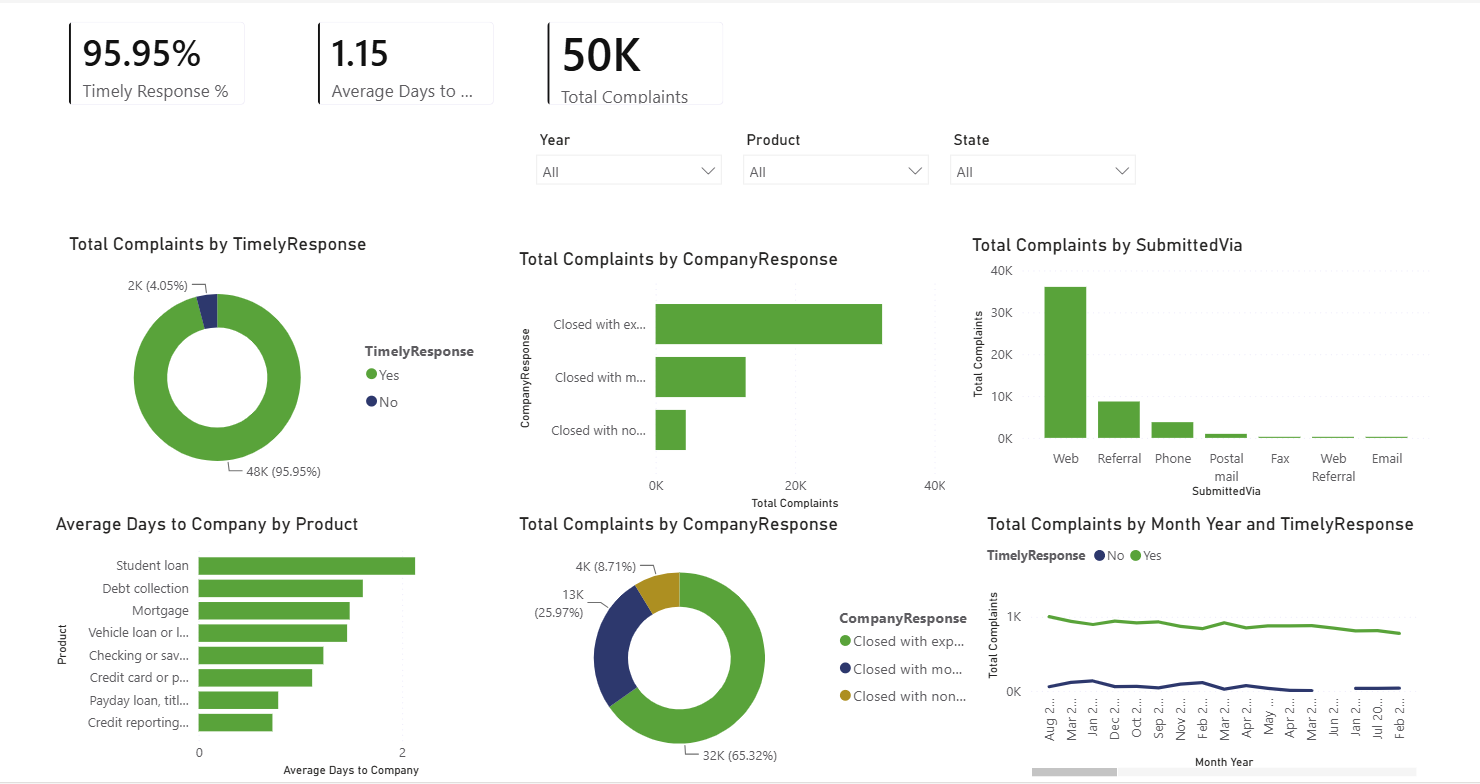

The dashboard page shown, as its layout file describes it:
{"tool":"powerbi","page":{"name":"Operations & Response Analysis","canvas":[1280,720],"ordinal":2},"visuals":[{"type":"cardVisual","fields":{"Data":["Consumer Complaints.Timely Response %"]},"box":[0,0,197.8,111.9],"z":0},{"type":"cardVisual","fields":{"Data":["Consumer Complaints.Average Days to Company"]},"box":[230.3,0,197.8,111.9],"z":1},{"type":"cardVisual","fields":{"Data":["Consumer Complaints.Total Complaints"]},"box":[442.7,0,197.8,111.9],"z":2},{"type":"donutChart","fields":{"Category":["Consumer Complaints.TimelyResponse"],"Y":["Consumer Complaints.Total Complaints"]},"box":[13,212.4,400.5,248.1],"z":3},{"type":"clusteredBarChart","fields":{"Category":["Consumer Complaints.CompanyResponse"],"Y":["Consumer Complaints.Total Complaints"]},"box":[428.1,225.4,403.8,246.5],"z":4},{"type":"clusteredColumnChart","fields":{"Category":["Consumer Complaints.SubmittedVia"],"Y":["Consumer Complaints.Total Complaints"]},"box":[846.5,214.1,433,248.1],"z":5},{"type":"clusteredBarChart","fields":{"Category":["Consumer Complaints.Product"],"Y":["Consumer Complaints.Average Days to Company"]},"box":[0,471.9,428.1,248.1],"z":6},{"type":"donutChart","fields":{"Category":["Consumer Complaints.CompanyResponse"],"Y":["Consumer Complaints.Total Complaints"]},"box":[428.1,471.9,433,248.1],"z":7},{"type":"lineChart","fields":{"Category":["Date.Month Year"],"Y":["Consumer Complaints.Total Complaints"],"Series":["Consumer Complaints.TimelyResponse"]},"box":[861.1,471.9,407,248.1],"z":8},{"type":"slicer","fields":{"Values":["Date.Year"]},"box":[439.5,111.9,191.4,73],"z":9},{"type":"slicer","fields":{"Values":["Consumer Complaints.Product"]},"box":[630.8,111.9,191.4,73],"z":10},{"type":"slicer","fields":{"Values":["Consumer Complaints.State"]},"box":[822.2,111.9,191.4,73],"z":11}]}

Visuals, with their boxes on the page's 1280x720 design canvas (x1, y1, x2, y2). These are canvas units, not pixel positions in the 1480x784 screenshot, which may show the page scaled, cropped or inside an application window:
cardVisual - Consumer Complaints.Timely Response %: (0,0,198,112)
cardVisual - Consumer Complaints.Average Days to Company: (230,0,428,112)
cardVisual - Consumer Complaints.Total Complaints: (443,0,640,112)
donutChart - Consumer Complaints.TimelyResponse x Consumer Complaints.Total Complaints: (13,212,414,460)
clusteredBarChart - Consumer Complaints.CompanyResponse x Consumer Complaints.Total Complaints: (428,225,832,472)
clusteredColumnChart - Consumer Complaints.SubmittedVia x Consumer Complaints.Total Complaints: (846,214,1280,462)
clusteredBarChart - Consumer Complaints.Product x Consumer Complaints.Average Days to Company: (0,472,428,720)
donutChart - Consumer Complaints.CompanyResponse x Consumer Complaints.Total Complaints: (428,472,861,720)
lineChart - Date.Month Year x Consumer Complaints.Total Complaints: (861,472,1268,720)
slicer - Date.Year: (440,112,631,185)
slicer - Consumer Complaints.Product: (631,112,822,185)
slicer - Consumer Complaints.State: (822,112,1014,185)
